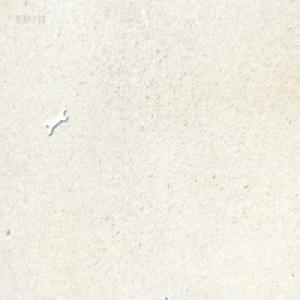Wrench: (43, 106, 66, 138)
